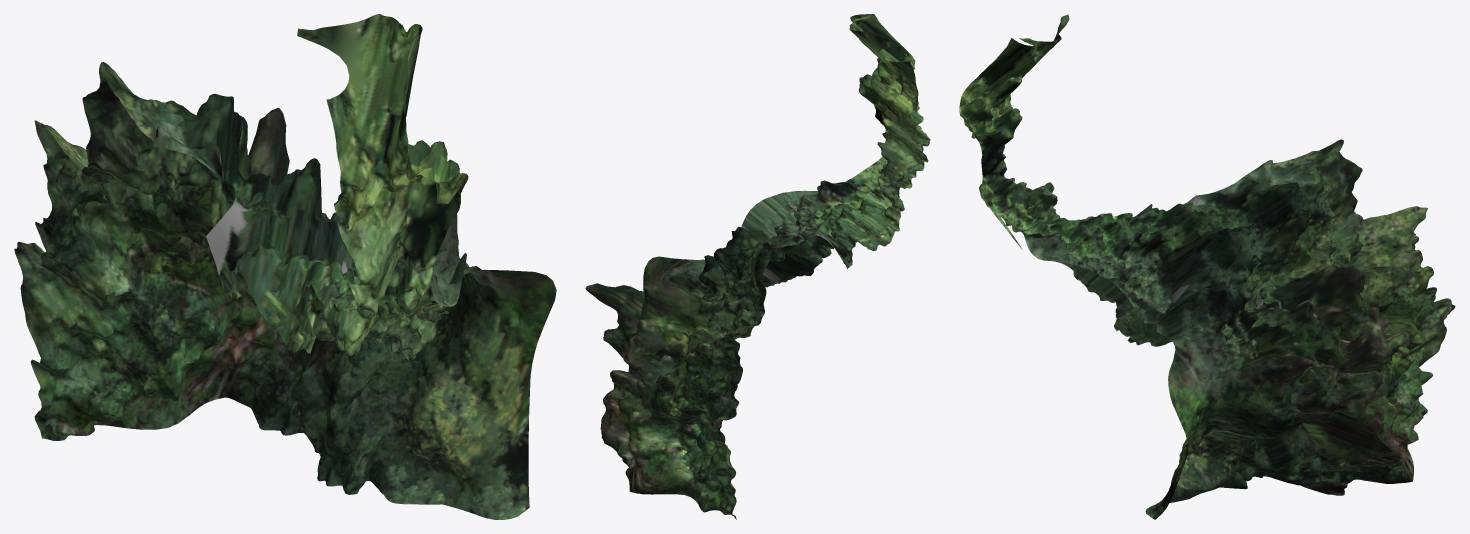
The model's file is Tile_+018_+026.fbx.
3 renders of one model, left to right at view 1: azimuth 30°, elevation 25°; view 2: azimuth 150°, elevation 25°; view 3: azimuth 270°, elevation 25°, orthographic. The views are drawn at different scales.
Parts seen in each view (by area): view 1: DefaultName; view 2: DefaultName; view 3: DefaultName.
Boxes of the visible parts, x1,y1,x2,y2 form: DefaultName: [14, 14, 556, 519]; DefaultName: [585, 14, 930, 519]; DefaultName: [959, 14, 1455, 519].
Bounding box in the file's own units: 13.16 × 22.54 × 24.88.
